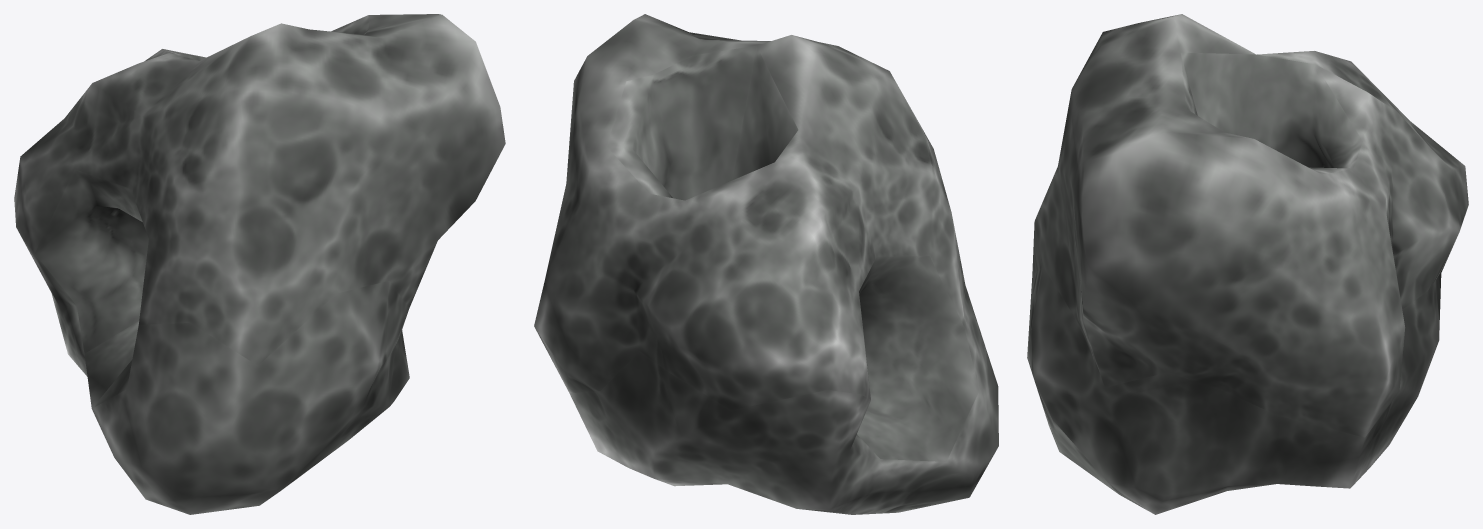
File: BigMeteo4.fbx
3 renders of one model, left to right at view 1: azimuth 30°, elevation 25°; view 2: azimuth 150°, elevation 25°; view 3: azimuth 270°, elevation 25°, orthographic. The views are drawn at different scales.
Parts seen in each view (by area): view 1: Meteorite_03; view 2: Meteorite_03; view 3: Meteorite_03.
Boxes of the visible parts, <box> form: Meteorite_03: <box>14,14,505,514</box>; Meteorite_03: <box>534,14,998,514</box>; Meteorite_03: <box>1027,14,1468,514</box>.
Bounding box in the file's own units: 768 × 879 × 720.
